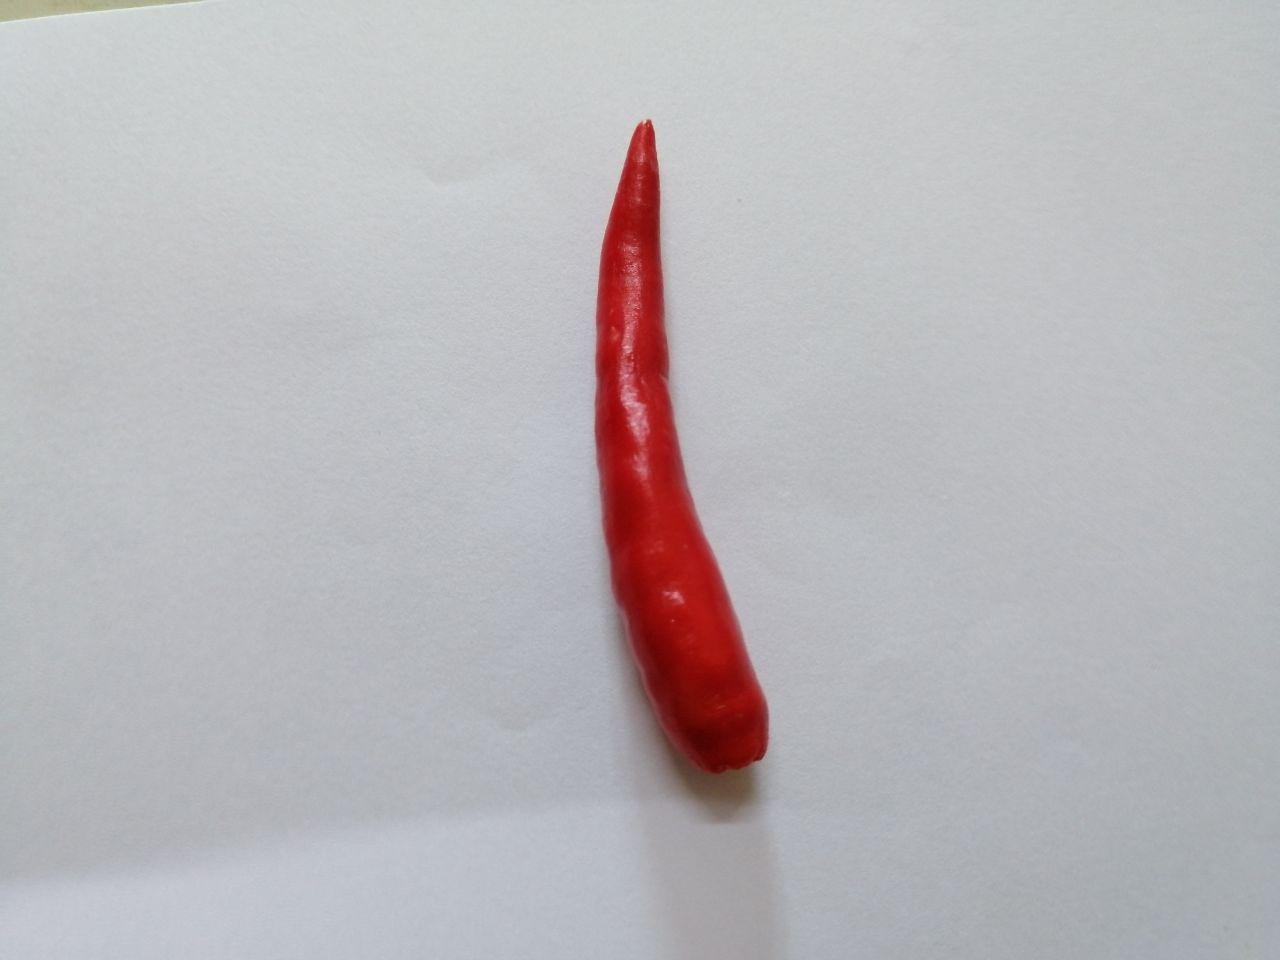lada merah: (512, 105, 790, 805)
